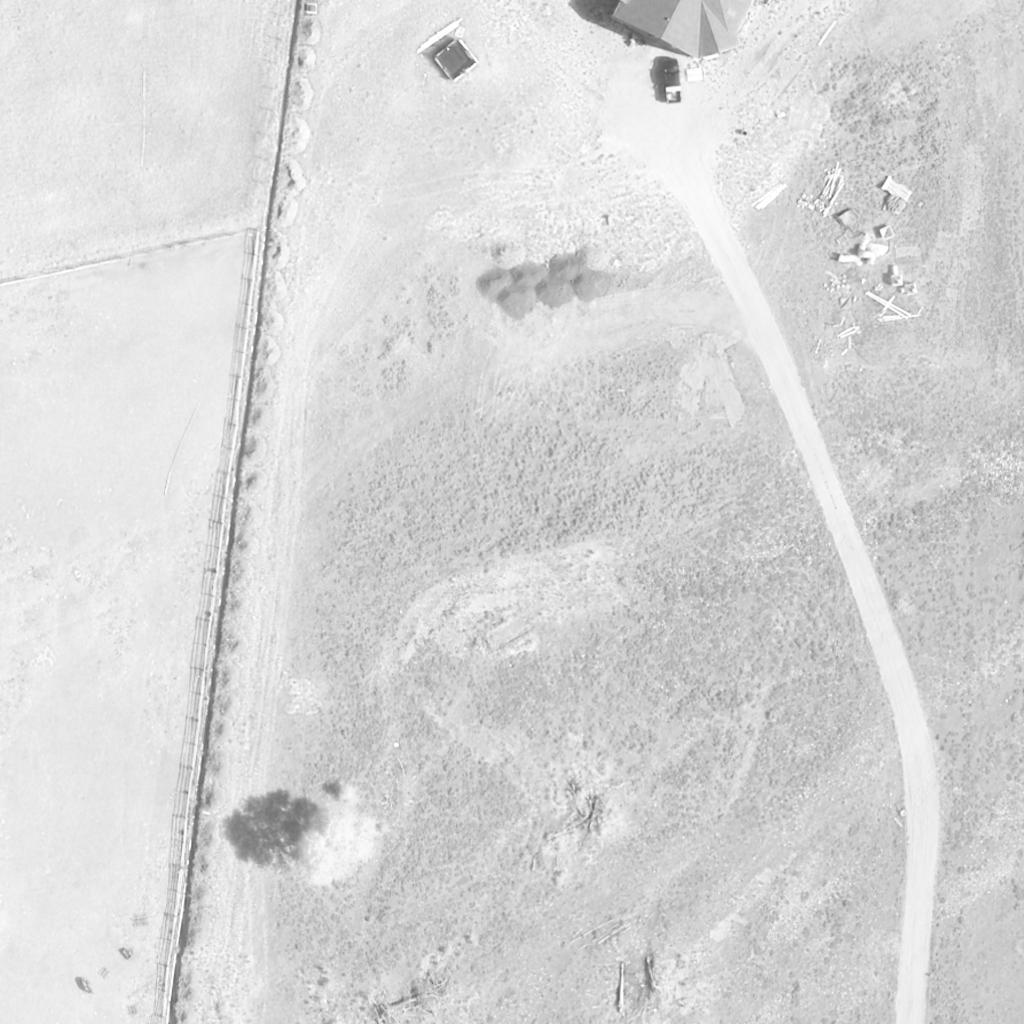vehicle: (663, 59, 683, 103)
